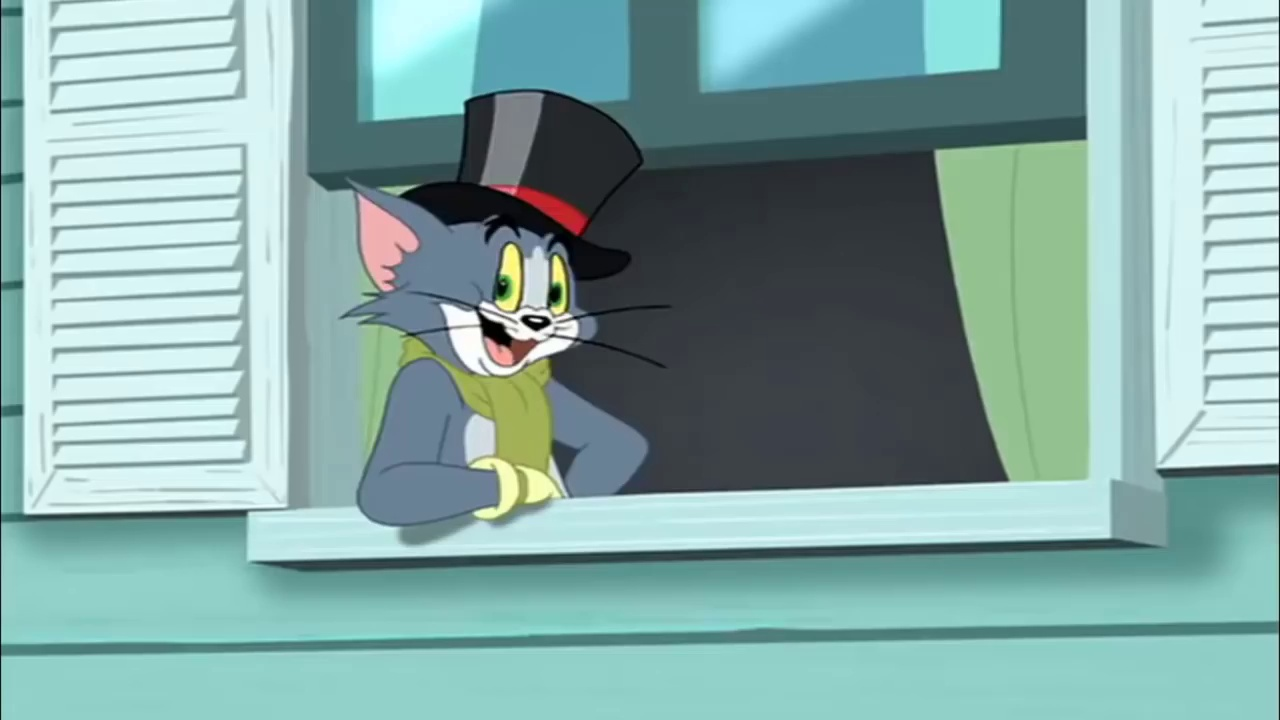face: (440, 222, 580, 378)
